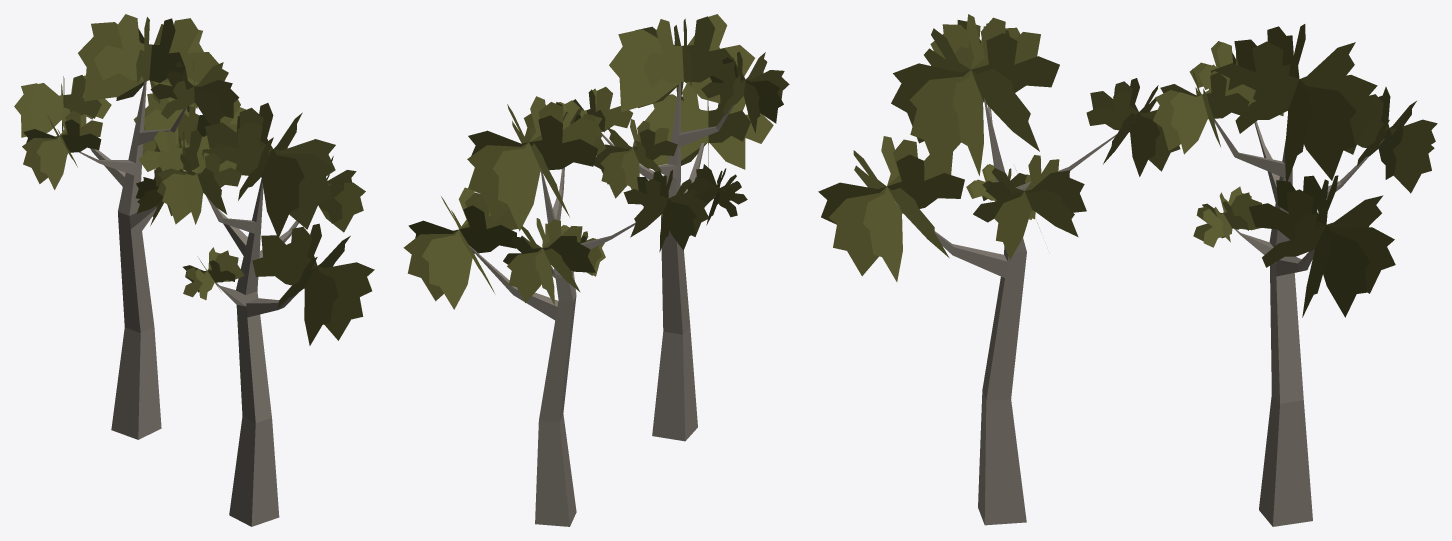
File: Tree18.fbx
3 renders of one model, left to right at view 1: azimuth 30°, elevation 25°; view 2: azimuth 150°, elevation 25°; view 3: azimuth 270°, elevation 25°, orthographic. The views are drawn at different scales.
Parts seen in each view (by area): view 1: Flat_half_tree.018; view 2: Flat_half_tree.018; view 3: Flat_half_tree.018.
Part boxes in pixels (x1,y1,x2,y2): Flat_half_tree.018: (14,14,374,526); Flat_half_tree.018: (403,14,789,526); Flat_half_tree.018: (818,14,1437,526).
Size of the model in its own units: 2.09 by 3.19 by 3.63.
